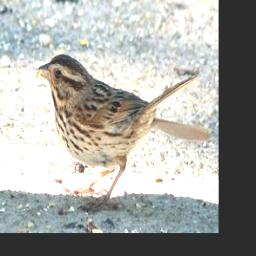Sparrow: (34, 52, 212, 214)
